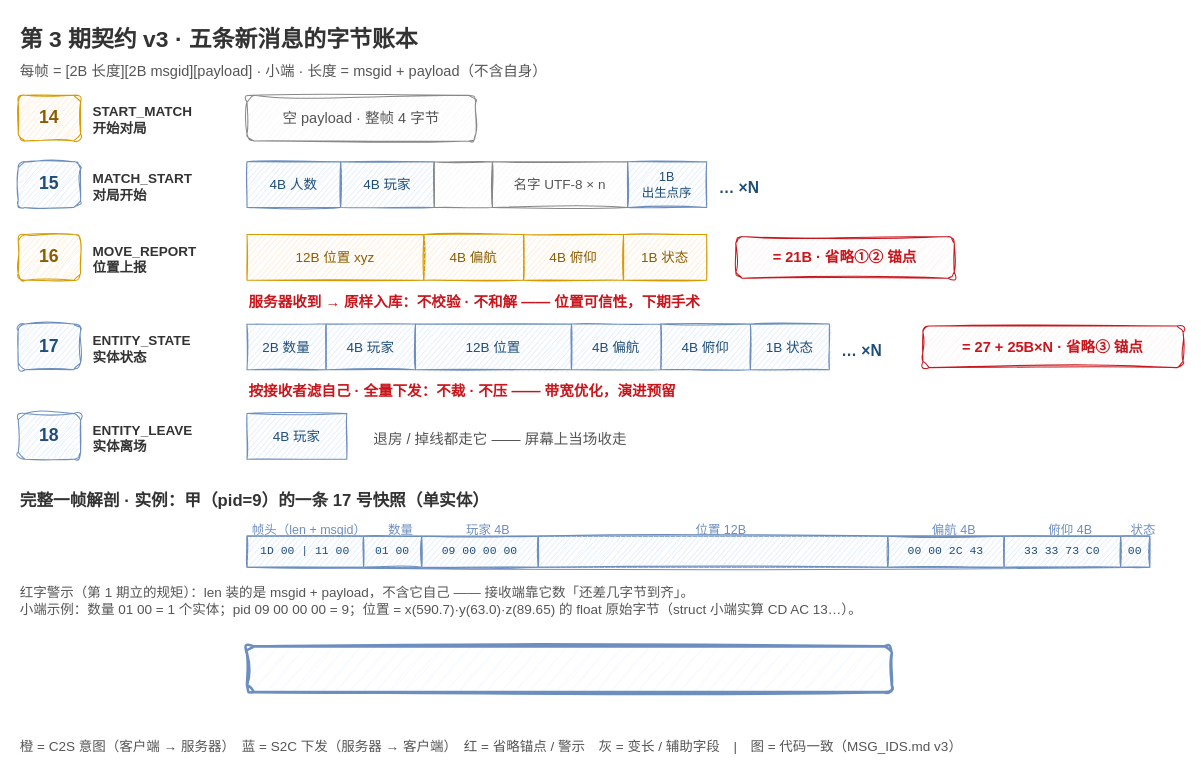
Some shapes in this 1201 by 774 pixel diagram are drawn without their labels. Each missing label, with the box of its shape:
1 ~ 13 号：一个字节没动 —— 契约只增不改: (245, 645, 893, 693)
1B 名长: (433, 161, 492, 207)
CD AC 13 44 · 00 00 7C 42 · CD 4C B3 42: (537, 535, 888, 567)
